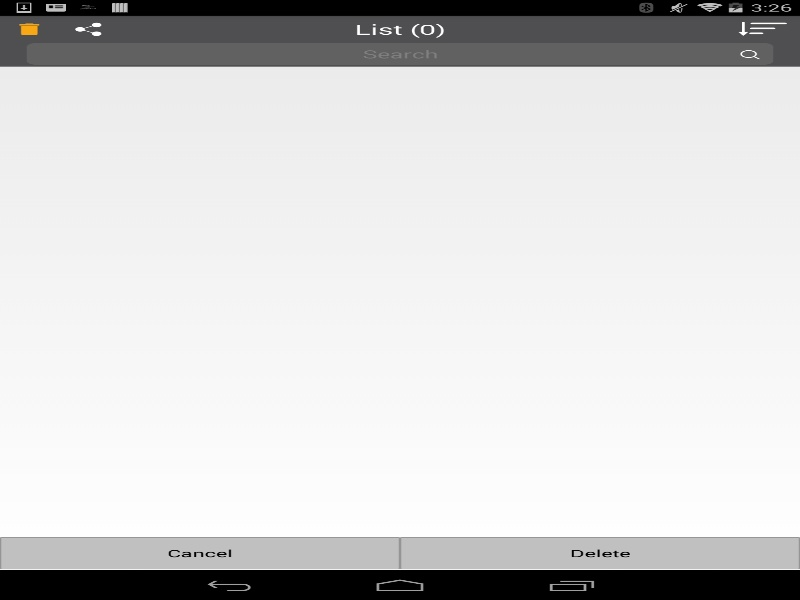Input: (26, 43, 773, 64)
